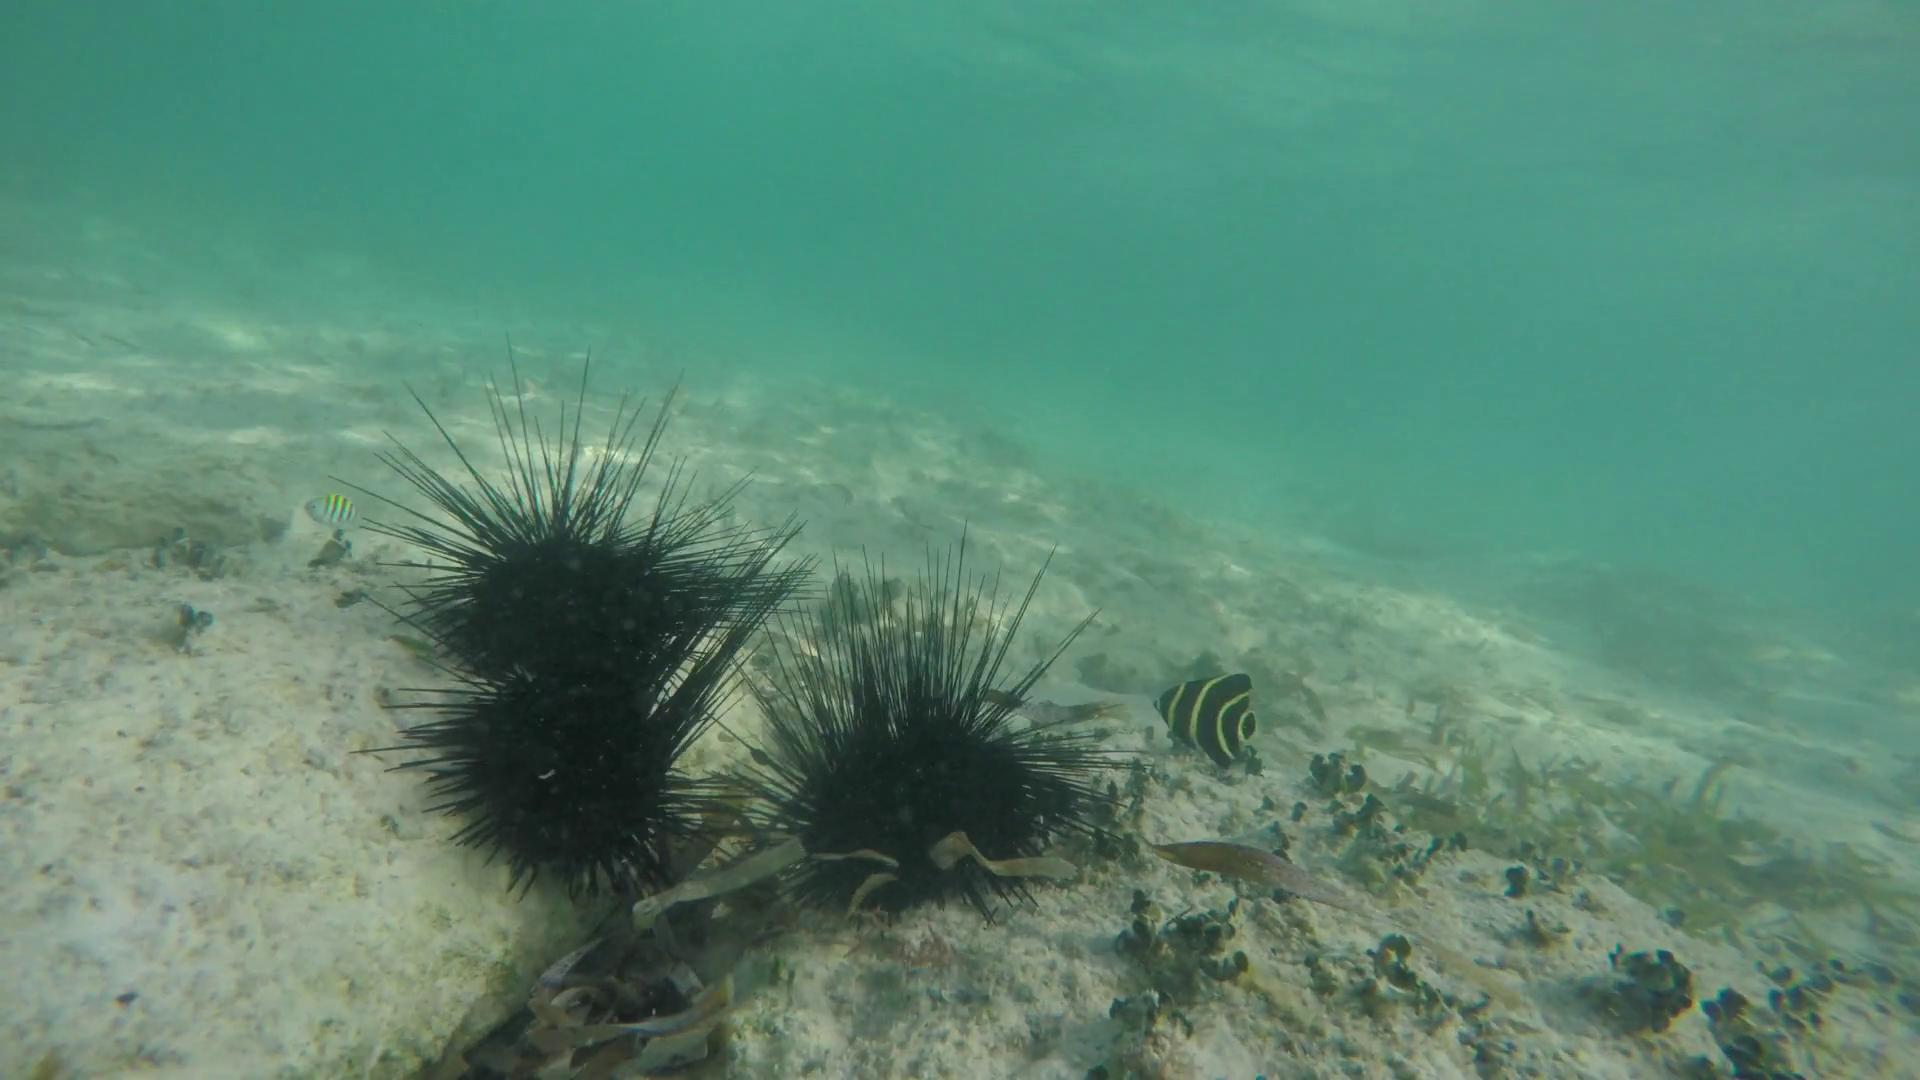urchin: (661, 516, 1170, 927), (318, 328, 827, 699), (347, 510, 814, 906)
